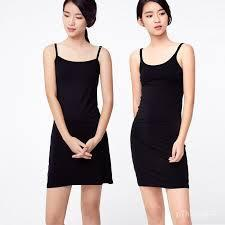dress: (47, 38, 112, 189), (131, 44, 193, 190)
